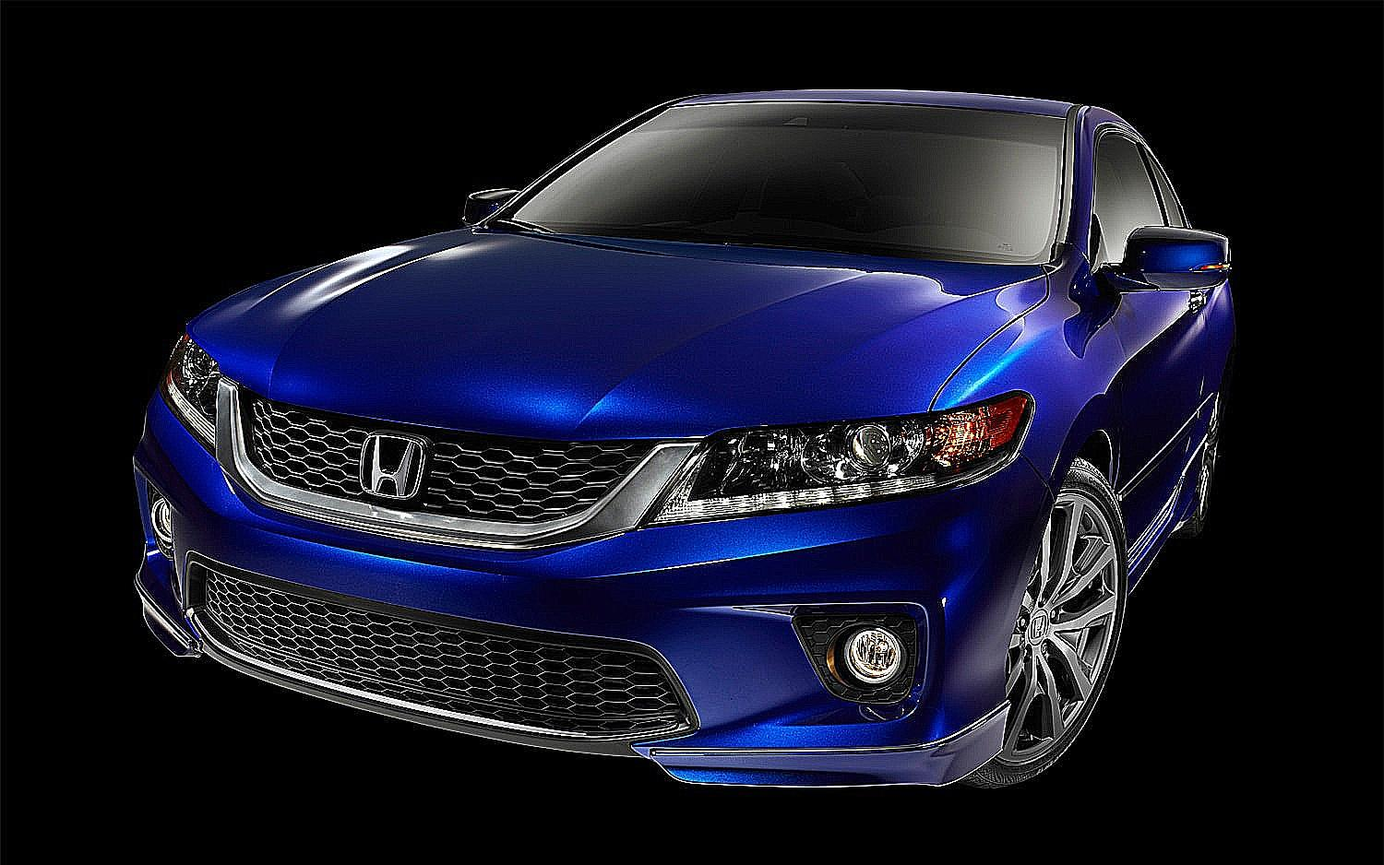Car hood: (182, 227, 1053, 441)
Front bumper: (100, 388, 1065, 791)
Headlight - -L-: (638, 390, 1034, 531)
Headlight - -R-: (160, 308, 221, 452)
Passenger-s door - -F-L-: (1052, 91, 1212, 608)
Side bumper - -L-: (1113, 434, 1223, 620)
Side mirror - -L-: (1078, 211, 1225, 303)
Side mirror - -R-: (453, 186, 523, 236)
